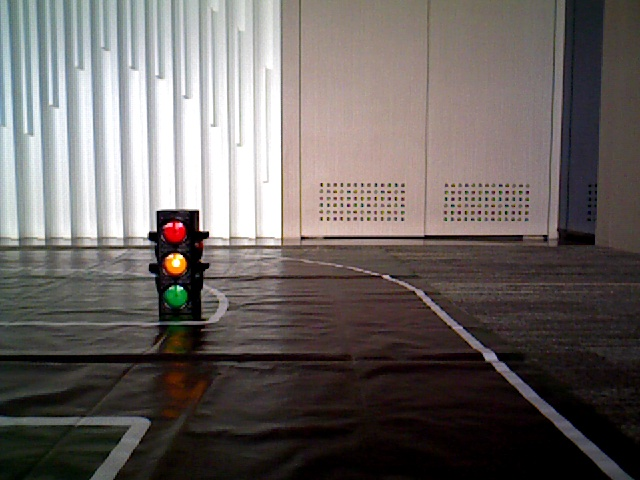yellow: (156, 212, 191, 311)
